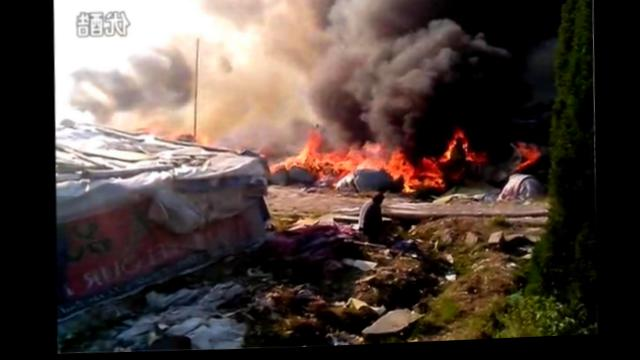fire: (294, 156, 356, 172), (420, 160, 443, 192), (386, 155, 410, 182), (300, 136, 322, 158), (402, 168, 418, 195), (272, 160, 292, 171), (443, 145, 451, 166), (466, 155, 482, 163)
